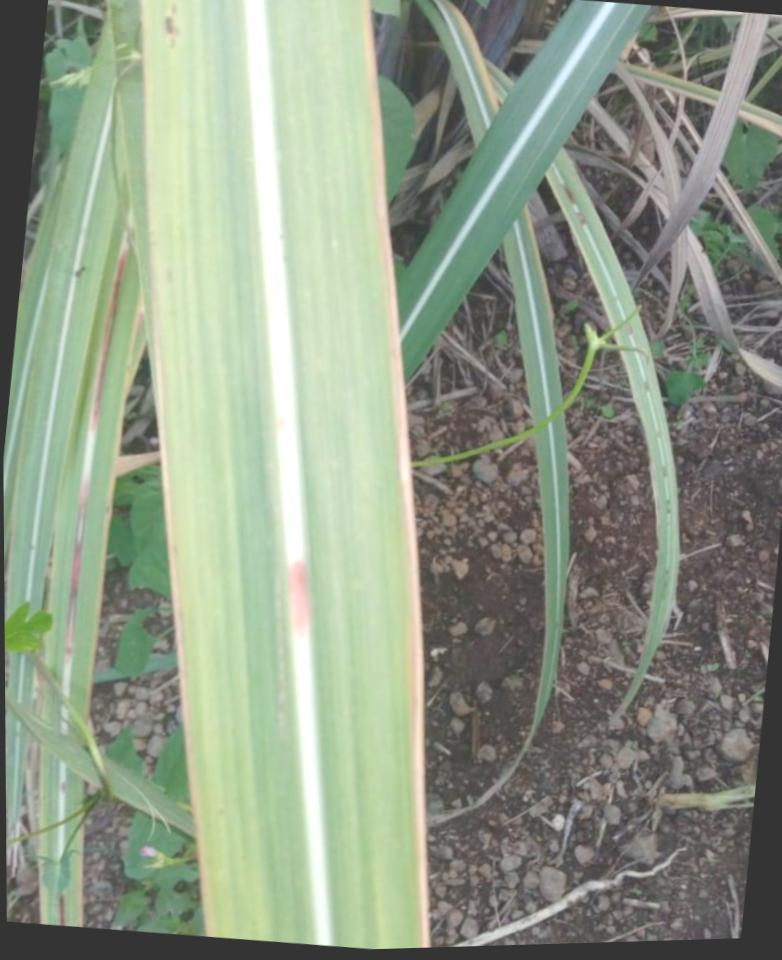RedRot: (91, 246, 128, 434), (65, 480, 89, 666), (288, 556, 310, 645), (560, 182, 586, 228), (276, 412, 289, 432), (59, 893, 66, 925), (626, 321, 635, 336), (643, 382, 652, 395), (666, 499, 672, 514), (60, 783, 67, 794), (663, 465, 668, 477), (656, 432, 661, 440)
